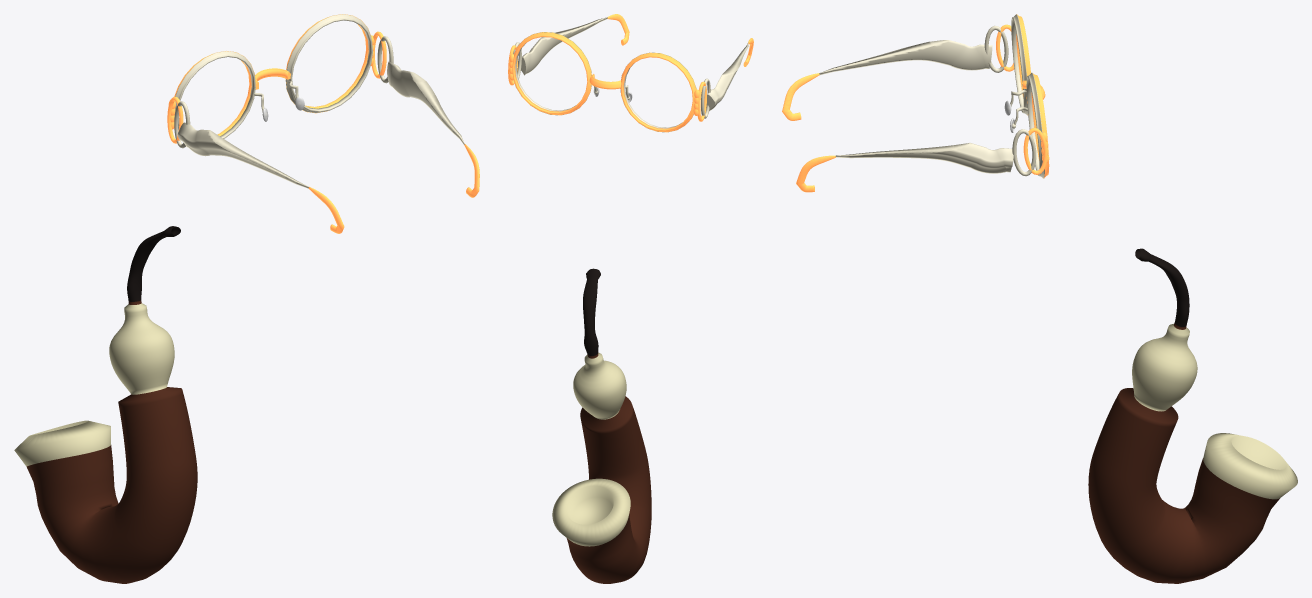
Rendered from MM__BadeDyNatRest22.glb.
3 renders of one model, left to right at view 1: azimuth 30°, elevation 25°; view 2: azimuth 150°, elevation 25°; view 3: azimuth 270°, elevation 25°, orthographic. The views are drawn at different scales.
Parts seen in each view (by area): view 1: GammelPipe, 01_Sobr__Arme, 01_Sobr_Back, 01_Sobr_Front, 01_Sobr__Aremender, 01_Sobr_SideCirkler; view 2: GammelPipe, 01_Sobr_Front, 01_Sobr__Arme, 01_Sobr_Back, 01_Sobr__Aremender, 01_Sobr_SideCirkler; view 3: GammelPipe, 01_Sobr__Arme, 01_Sobr_Front, 01_Sobr_Back, 01_Sobr__Aremender, 01_Sobr_SideCirkler.
Part boxes in pixels (x1,y1,x2,y2): GammelPipe: (14, 226, 197, 583); 01_Sobr__Arme: (177, 61, 464, 188); 01_Sobr_Back: (175, 14, 372, 138); 01_Sobr_Front: (167, 14, 386, 143); 01_Sobr__Aremender: (308, 144, 479, 233); 01_Sobr_SideCirkler: (174, 36, 393, 148); GammelPipe: (552, 268, 651, 583); 01_Sobr_Front: (508, 32, 706, 132); 01_Sobr__Arme: (518, 17, 748, 111); 01_Sobr_Back: (514, 32, 696, 132); 01_Sobr__Aremender: (607, 14, 753, 66); 01_Sobr_SideCirkler: (513, 42, 710, 118); GammelPipe: (1088, 248, 1297, 583); 01_Sobr__Arme: (819, 40, 1013, 173); 01_Sobr_Front: (996, 14, 1049, 178); 01_Sobr_Back: (1011, 14, 1044, 178); 01_Sobr__Aremender: (782, 73, 835, 192); 01_Sobr_SideCirkler: (984, 25, 1036, 176).
Size of the model in its own units: 0.3374 by 0.7289 by 0.5943.
Materials: 7 (2 with a texture image).
